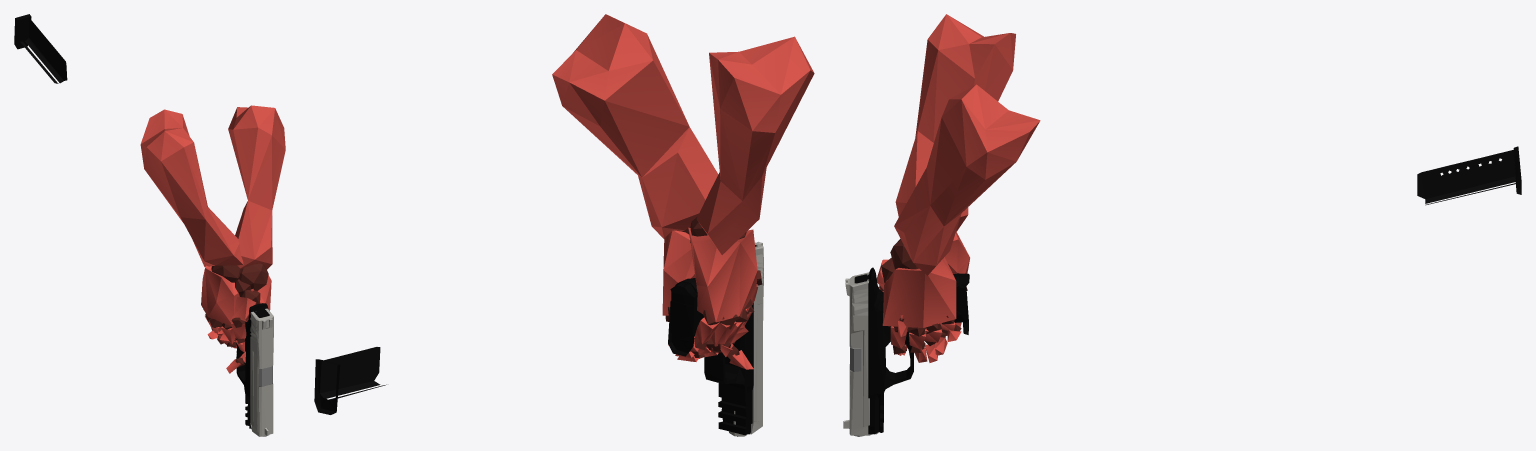
Rendered from M&P9reloadNormal1lowP_000153.obj.
The picture shows the model from 3 angles, left to right: view 1: azimuth 30°, elevation 25°; view 2: azimuth 150°, elevation 25°; view 3: azimuth 270°, elevation 25°; orthographic projection. The views are drawn at different scales.
Parts seen in each view (by area): view 1: Beta_Surface.001_Beta_Surface.002, slide_平面.002, Beta_Joints.001_Beta_Joints.002, magazine_平面.003, triger_平面.001; view 2: Beta_Surface.001_Beta_Surface.002, triger_平面.001, magazine_平面.003, slide_平面.002, Beta_Joints.001_Beta_Joints.002; view 3: Beta_Surface.001_Beta_Surface.002, triger_平面.001, magazine_平面.003, slide_平面.002, Beta_Joints.001_Beta_Joints.002.
Boxes of the visible parts, box(x1,y1,x2,y2) form: Beta_Surface.001_Beta_Surface.002: box(140, 105, 285, 373); slide_平面.002: box(250, 308, 273, 436); Beta_Joints.001_Beta_Joints.002: box(202, 263, 268, 367); magazine_平面.003: box(14, 14, 67, 83); triger_平面.001: box(235, 303, 272, 436); Beta_Surface.001_Beta_Surface.002: box(552, 14, 814, 369); triger_平面.001: box(670, 278, 753, 436); magazine_平面.003: box(314, 347, 386, 414); slide_平面.002: box(729, 241, 763, 436); Beta_Joints.001_Beta_Joints.002: box(665, 217, 762, 361); Beta_Surface.001_Beta_Surface.002: box(876, 14, 1040, 362); triger_平面.001: box(850, 267, 969, 436); magazine_平面.003: box(1417, 146, 1521, 205); slide_平面.002: box(843, 272, 878, 435); Beta_Joints.001_Beta_Joints.002: box(879, 239, 967, 354).
Bounding box in the file's own units: 42.51 × 80.08 × 130.
